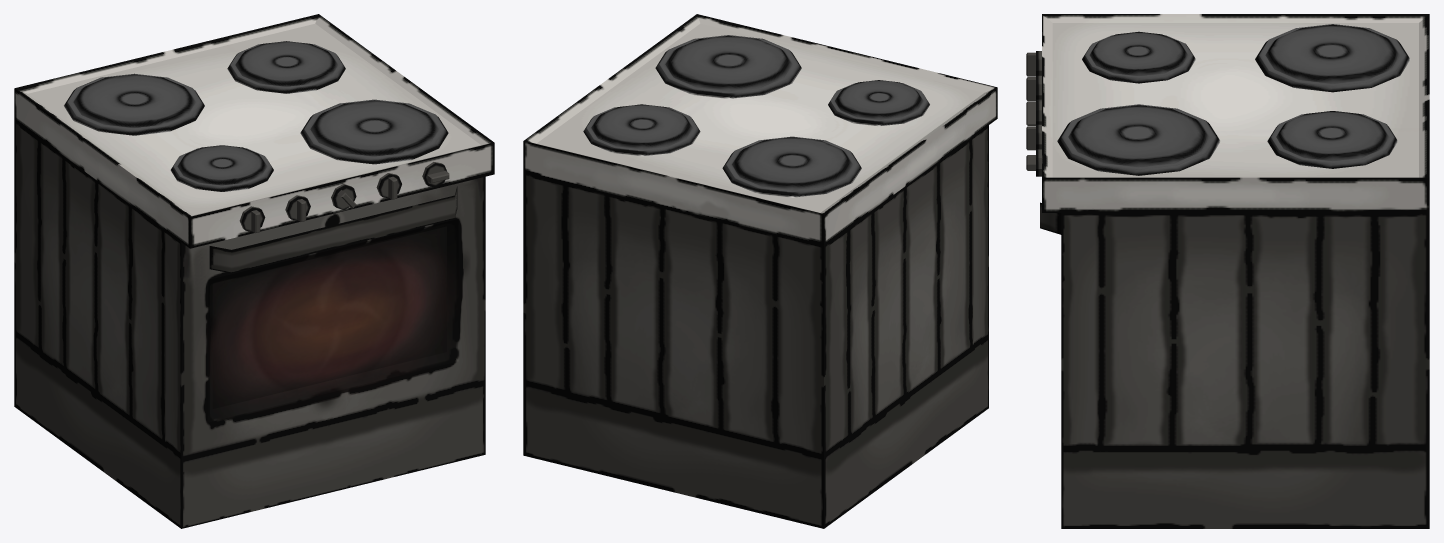
The model's file is Stove.fbx.
3 views of the same model, side by side, from view 1: azimuth 30°, elevation 25°; view 2: azimuth 150°, elevation 25°; view 3: azimuth 270°, elevation 25° (orthographic). The views are drawn at different scales.
Visible parts, largest first — view 1: Counter.001, Counter.002; view 2: Counter.001, Counter.002; view 3: Counter.001, Counter.002.
Boxes of the visible parts, box(x1,y1,x2,y2) form: Counter.001: box(14, 14, 494, 528); Counter.002: box(163, 176, 485, 457); Counter.001: box(523, 14, 997, 528); Counter.002: box(971, 125, 988, 349); Counter.001: box(1026, 14, 1429, 528); Counter.002: box(1040, 202, 1100, 449).
Size of the model in its own units: 100 by 101 by 104.
